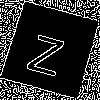Z: (25, 25, 70, 77)
